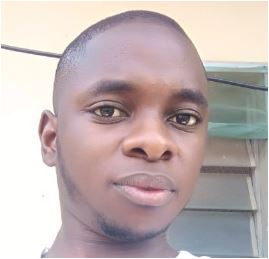without_facemask: (81, 137, 202, 237)
